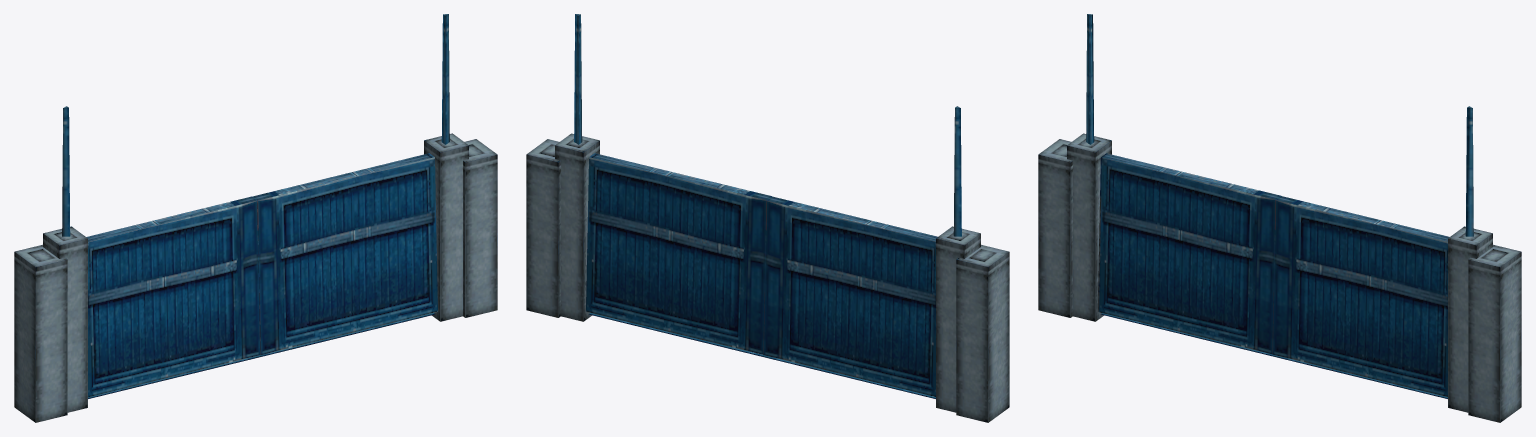
File: gate_base.glb
The picture shows the model from 3 angles, left to right: view 1: azimuth 30°, elevation 25°; view 2: azimuth 150°, elevation 25°; view 3: azimuth 330°, elevation 25°; orthographic projection.
Visible parts, largest first — view 1: MeshRoot; view 2: MeshRoot; view 3: MeshRoot.
Part boxes in pixels (left/top/right/bottom): MeshRoot: left=14, top=14, right=497, bottom=422; MeshRoot: left=526, top=14, right=1009, bottom=422; MeshRoot: left=1038, top=14, right=1521, bottom=422.
Size of the model in its own units: 12.12 by 7.47 by 0.9688.
Materials: 1 (1 with a texture image).
